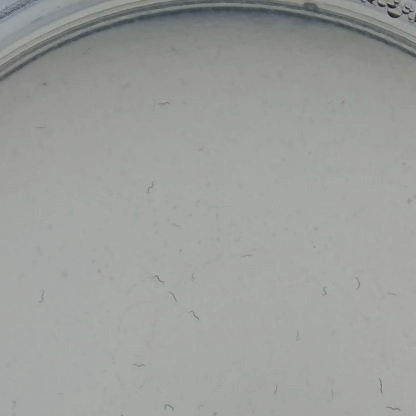worm: (140, 264, 172, 292), (118, 351, 152, 372), (344, 268, 366, 296), (368, 374, 397, 394), (314, 281, 339, 304), (153, 394, 179, 416), (283, 323, 310, 344), (110, 395, 137, 416), (30, 288, 54, 311), (264, 376, 286, 400), (138, 176, 164, 196), (182, 302, 207, 322), (4, 396, 28, 416), (168, 216, 190, 237), (321, 384, 346, 402), (378, 400, 405, 416), (165, 287, 185, 307), (154, 95, 179, 111), (381, 284, 403, 300), (240, 247, 255, 262)
